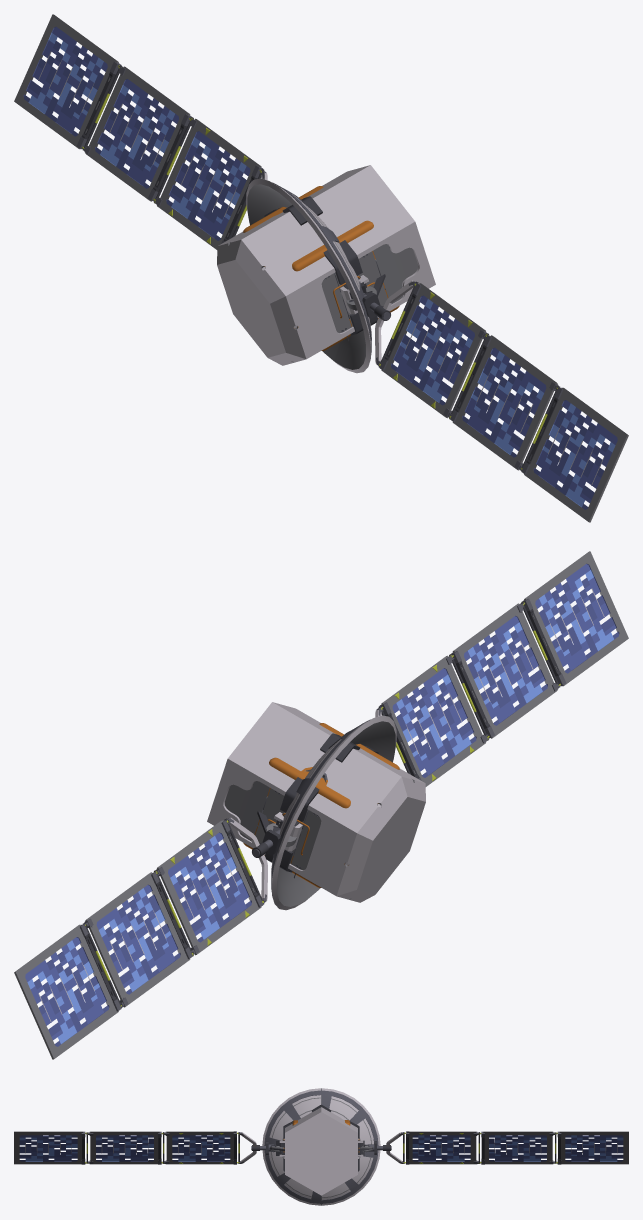
File: satellite.glb
The picture shows the model from 3 angles, top to bottom: view 1: azimuth 30°, elevation 25°; view 2: azimuth 150°, elevation 25°; view 3: azimuth 270°, elevation 25°; orthographic projection. The views are drawn at different scales.
Size of the model in its own units: 96481 by 99777 by 543241.
